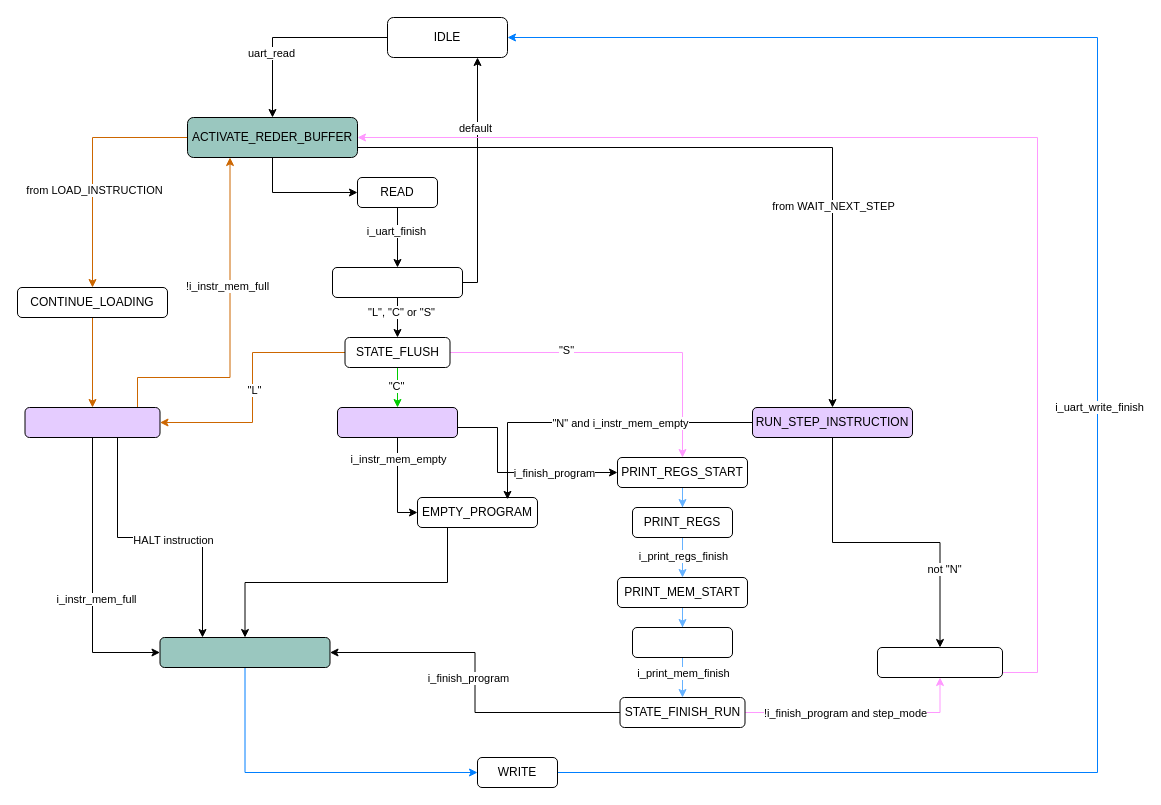
Some shapes in this 1161 by 805 pixel diagram are drawn without their labels. The shapes that lost their labels are listed below. From the top down, each one's centre as x and y in pixels, then its label:
At point (397, 282): "CMD_INSTRUCTION".
At point (92, 422): "LOAD_INSTRUCTION".
At point (397, 422): "RUN_CONTINUOUS".
At point (244, 652): "ACTIVATE_WRITER_BUFFER".
At point (682, 642): "PRINT_MEM".
At point (939, 662): "WAIT_NEXT_STEP".
